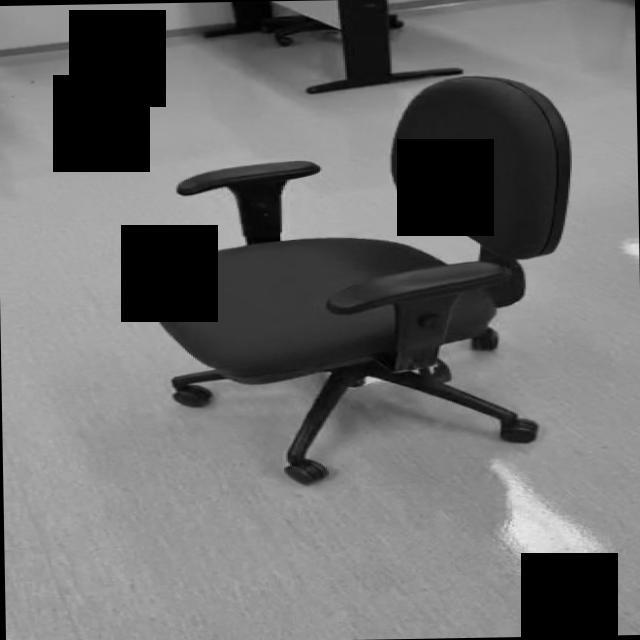chair: (143, 74, 578, 488)
